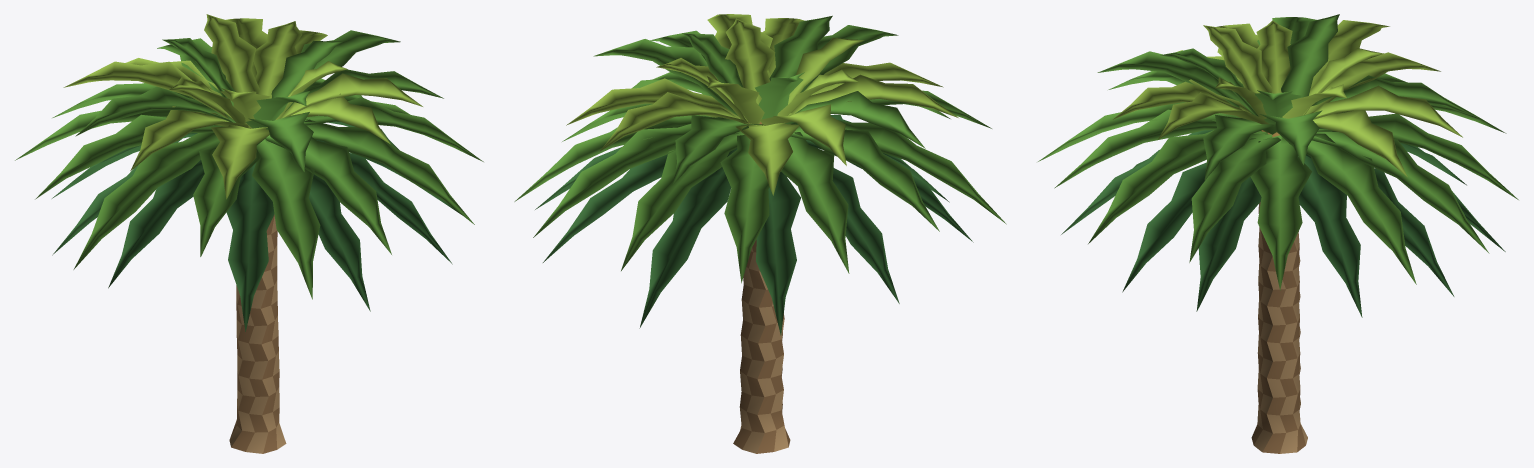
Rendered from tree_palm.glb.
3 views of the same model, side by side, from view 1: azimuth 30°, elevation 25°; view 2: azimuth 150°, elevation 25°; view 3: azimuth 270°, elevation 25° (orthographic).
Parts seen in each view (by area): view 1: leaves, trunk; view 2: leaves, trunk; view 3: leaves, trunk.
Part boxes in pixels (x1,y1,x2,y2): leaves: [15, 14, 483, 331]; trunk: [229, 214, 286, 453]; leaves: [514, 14, 1006, 335]; trunk: [733, 239, 790, 453]; leaves: [1038, 14, 1518, 317]; trunk: [1251, 202, 1307, 453].
Bounding box in the file's own units: 10.05 × 9.22 × 10.19.
